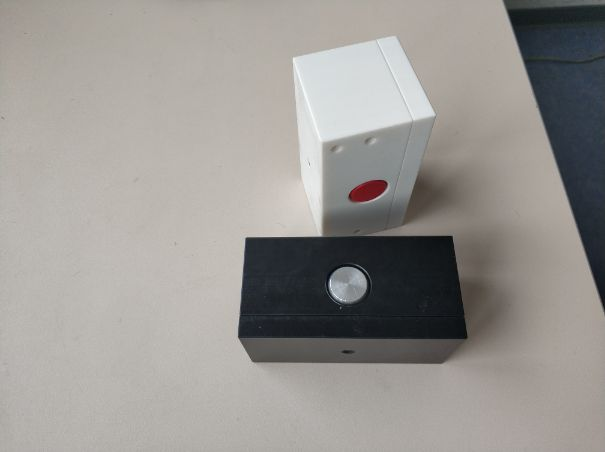black+black+silver: (235, 232, 472, 369)
white+white+red: (289, 31, 438, 240)
